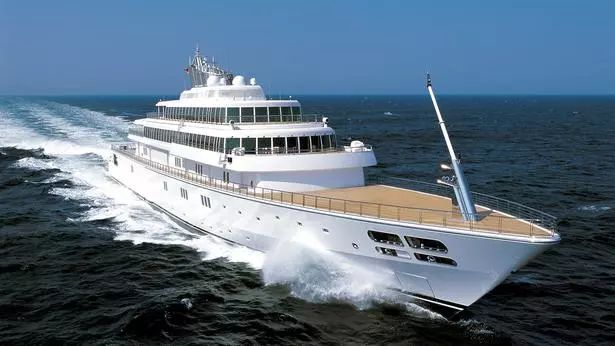yacht: (107, 46, 563, 319)
